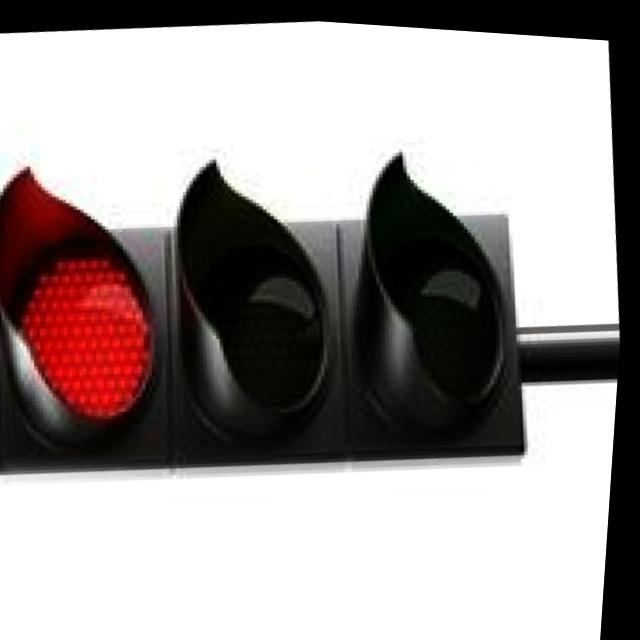red_light: (0, 182, 197, 460)
